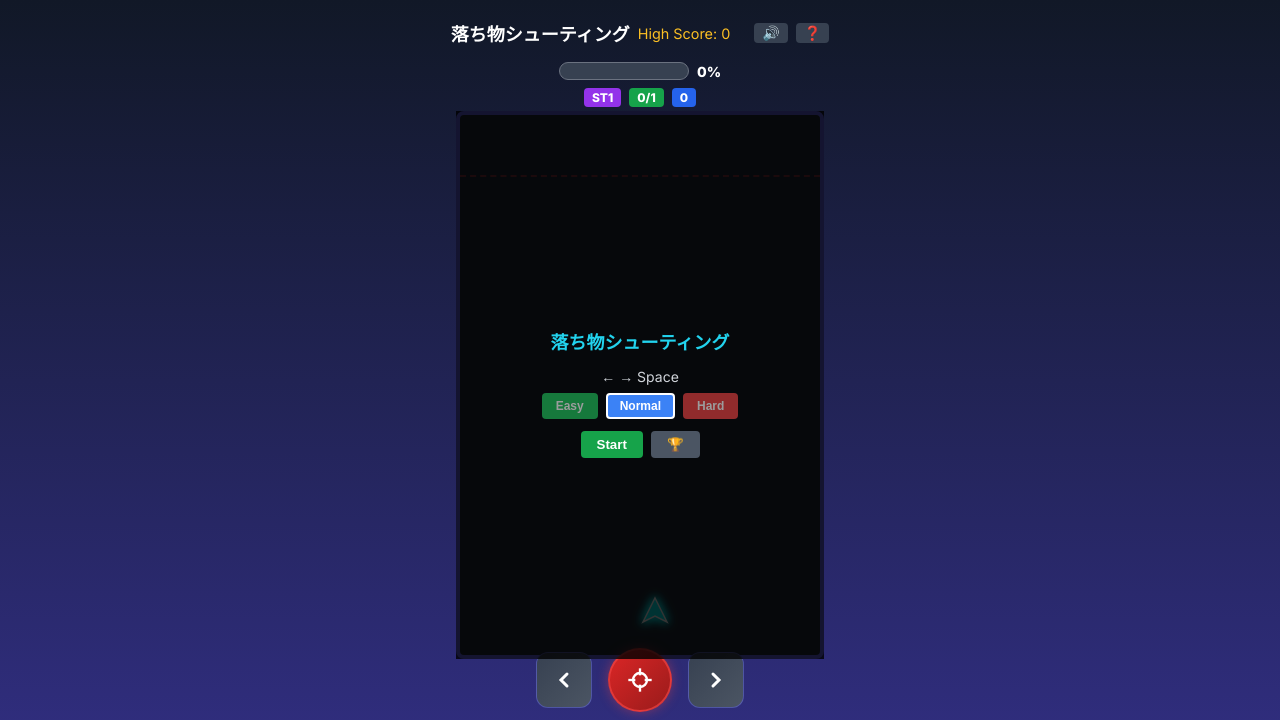
Test: FalldownShooterGame 統合テスト › UI要素 › サウンドトグルボタンが動作すること
Note: クリックで OFF
What coordinates should you click on to do the following:
click the button "🔊"
I would click on:
 (771, 33)
Its box is [754,23,788,43].
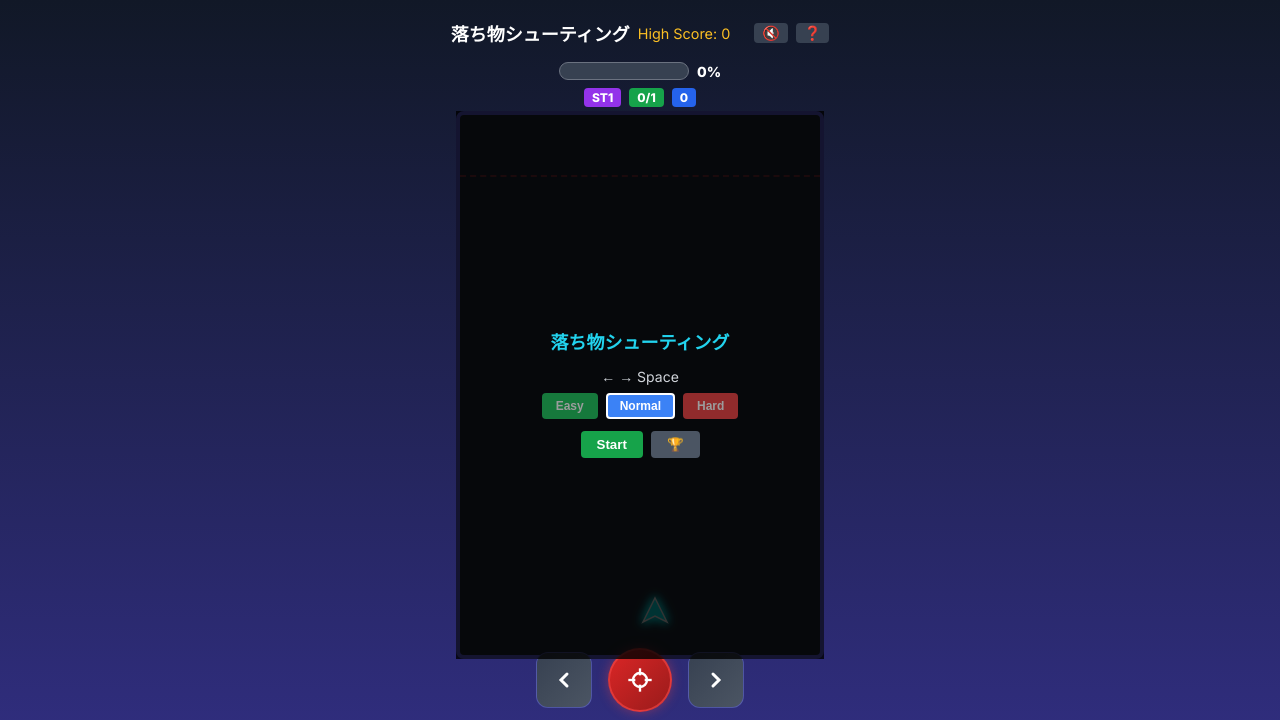
Now the button "🔇" is shown
Note: 再クリックで ON
What coordinates should you click on to do the following:
click the button "🔇"
I would click on:
 (771, 33)
Its box is [754,23,788,43].
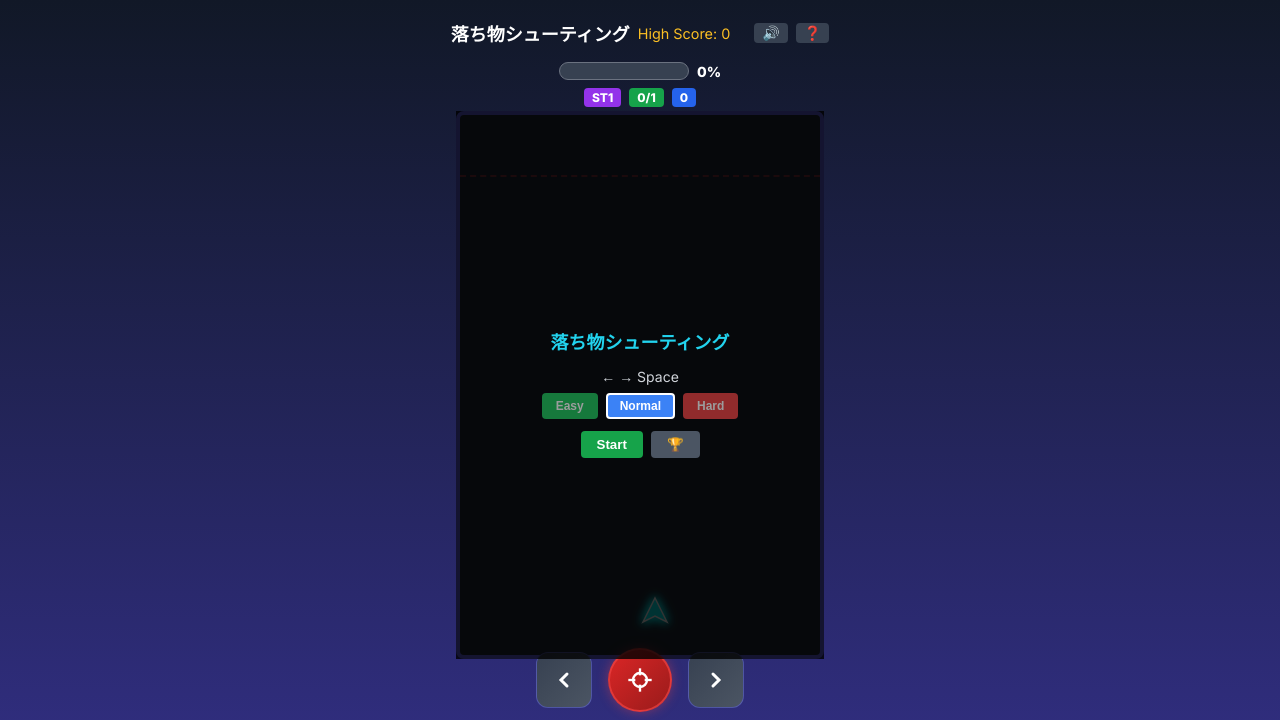
Now the button "🔊" is shown, box [754,23,788,43]
